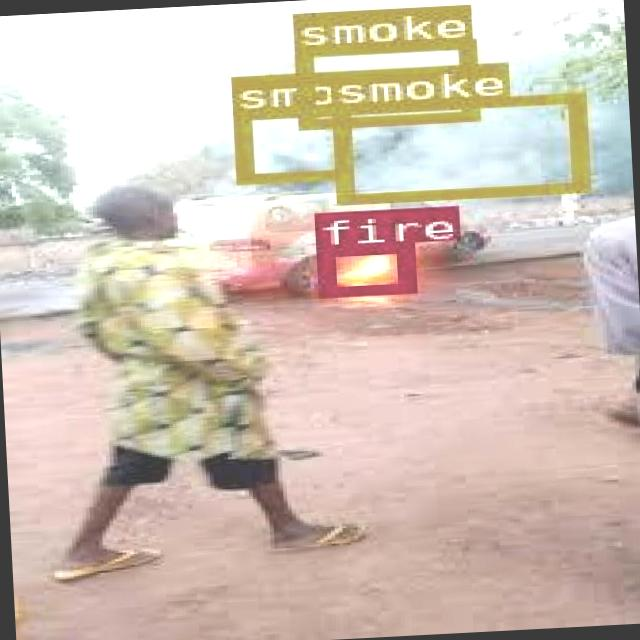fire: (314, 241, 411, 296)
smoke: (330, 91, 584, 202), (291, 38, 475, 128), (232, 104, 350, 182)
